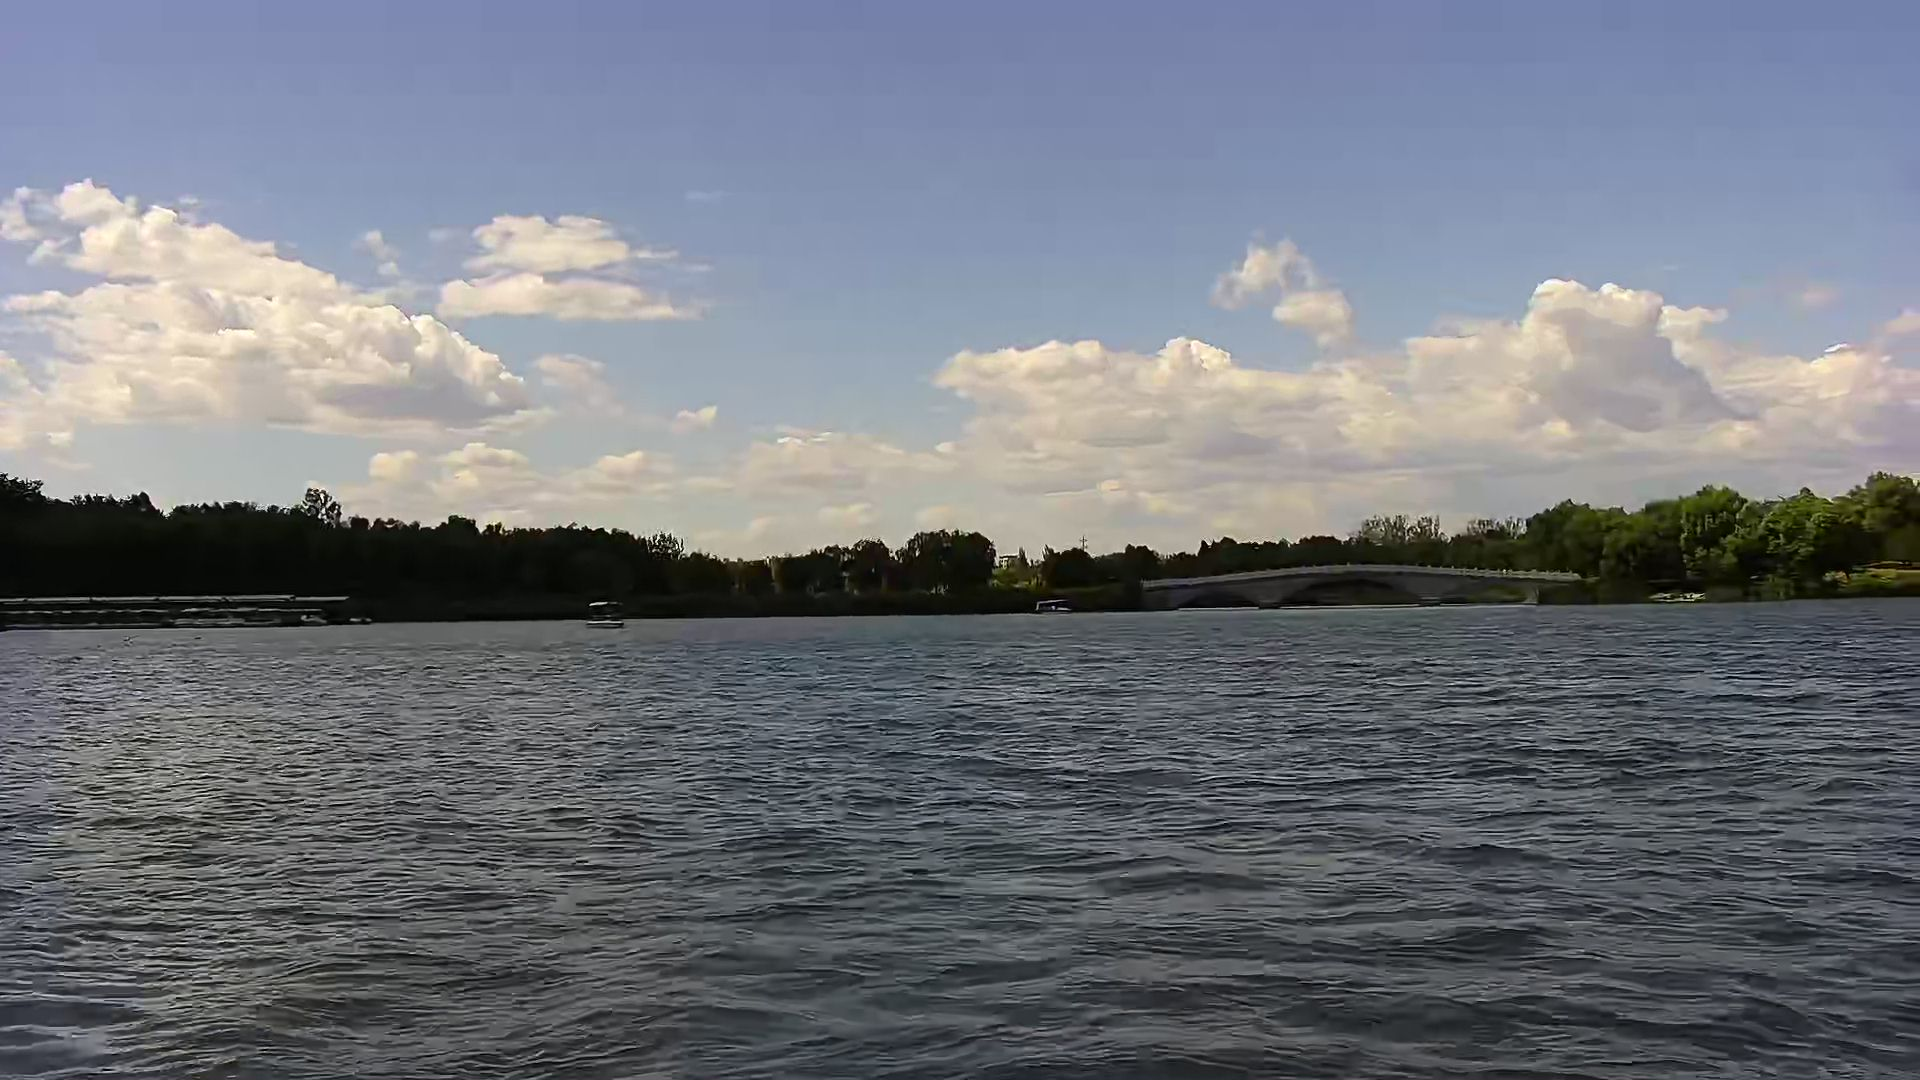boat: (583, 592, 636, 636)
bridge: (1131, 559, 1590, 608)
harbor: (1, 587, 367, 629)
